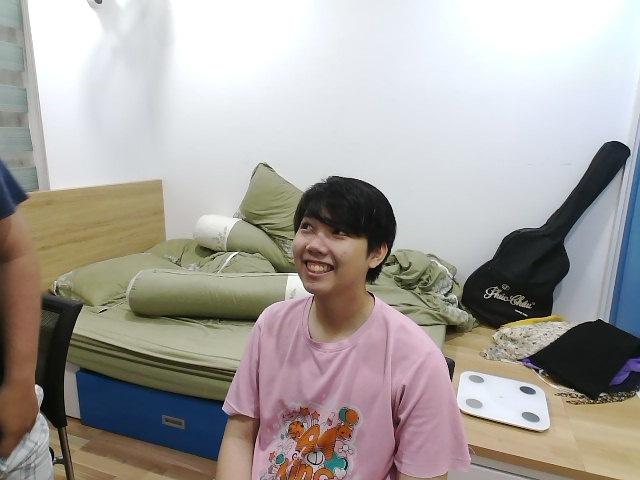face: (292, 176, 397, 295)
